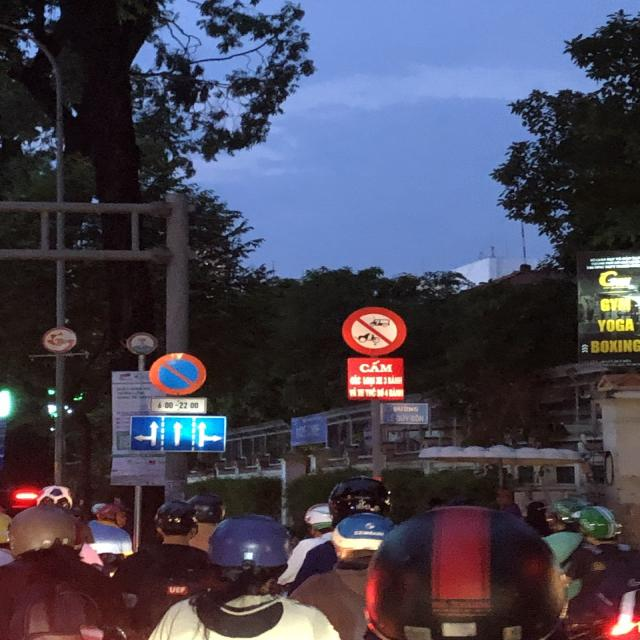Bien bao cam do xe: (144, 343, 218, 398)
